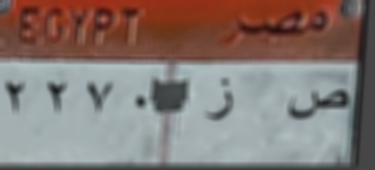0: (126, 86, 151, 119)
2: (42, 75, 70, 116), (3, 78, 32, 116)
7: (83, 74, 116, 120)
saad: (286, 85, 351, 123)
zay: (204, 76, 238, 125)
